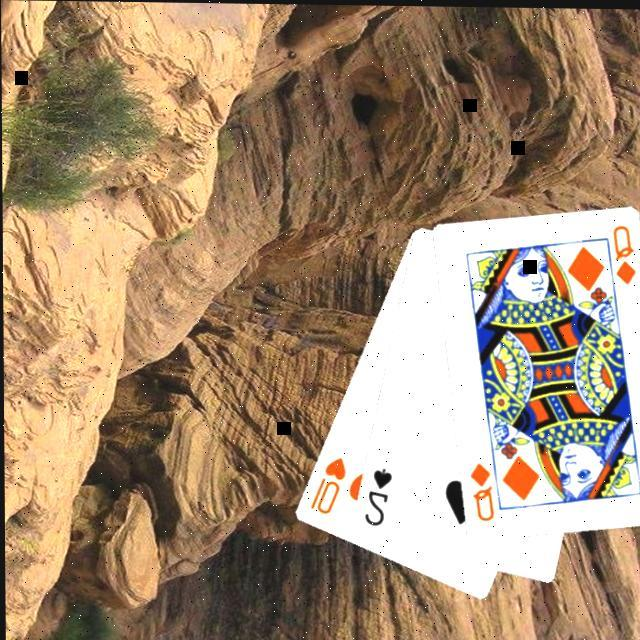10H: (306, 454, 348, 520)
2S: (360, 466, 394, 530)
QD: (466, 460, 497, 526), (610, 222, 640, 288)
